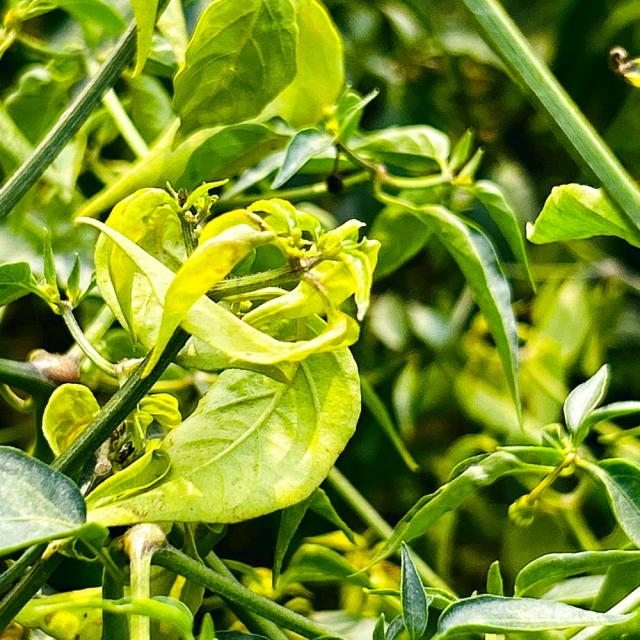Chilli_Leaf_Curl: (2, 0, 637, 638), (23, 183, 380, 540), (348, 362, 638, 588), (86, 190, 381, 381), (83, 342, 362, 528), (370, 183, 525, 430), (169, 0, 299, 140), (0, 444, 88, 556), (525, 180, 639, 250)
